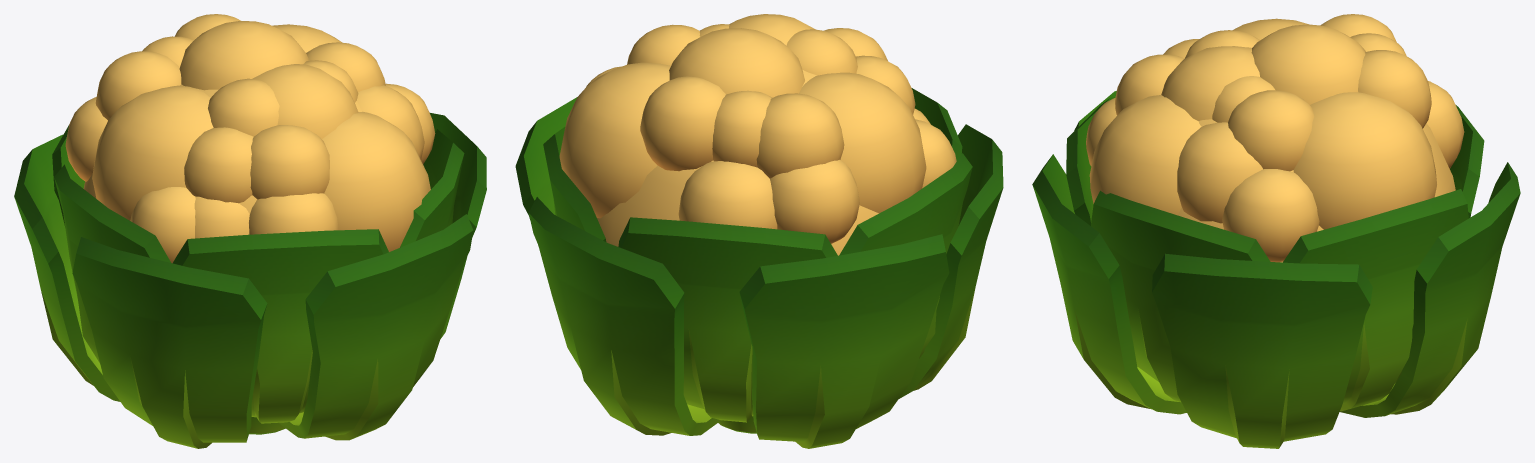
Rendered from Cauliflower.fbx.
3 renders of one model, left to right at view 1: azimuth 30°, elevation 25°; view 2: azimuth 150°, elevation 25°; view 3: azimuth 270°, elevation 25°, orthographic. The views are drawn at different scales.
Visible parts, largest first — view 1: Cauliflower; view 2: Cauliflower; view 3: Cauliflower.
Boxes of the visible parts, <box> form: Cauliflower: <box>14,14,486,448</box>; Cauliflower: <box>515,14,1003,448</box>; Cauliflower: <box>1032,14,1520,448</box>.
Size of the model in its own units: 100 by 87.58 by 101.
